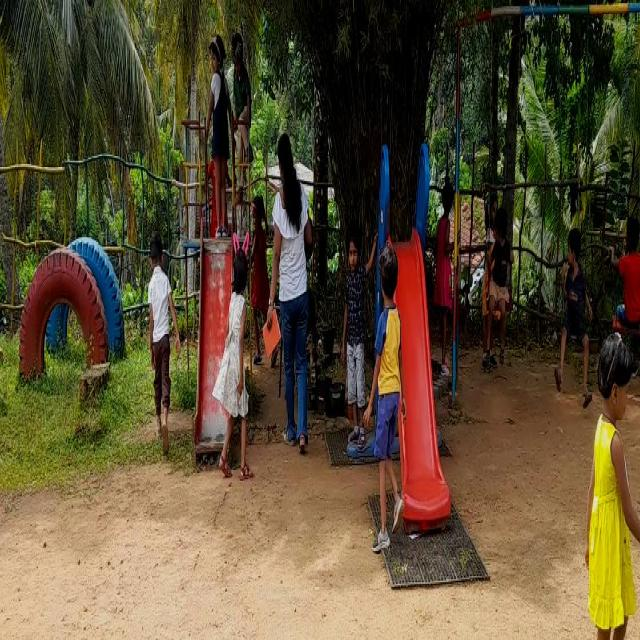adult: (271, 119, 319, 441)
child: (585, 334, 629, 640), (374, 249, 410, 542), (220, 248, 258, 490), (337, 232, 374, 458), (139, 234, 175, 439), (480, 180, 520, 360), (202, 42, 236, 240), (430, 163, 457, 376), (564, 230, 596, 399)
